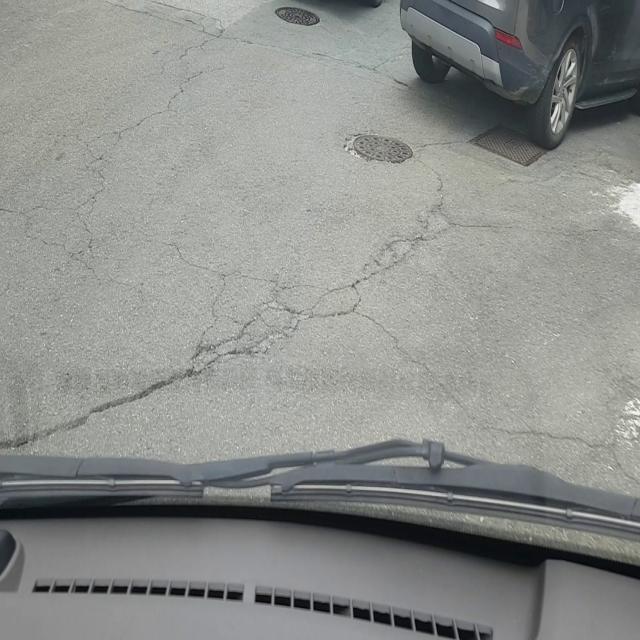Pothole: (342, 130, 415, 168)
